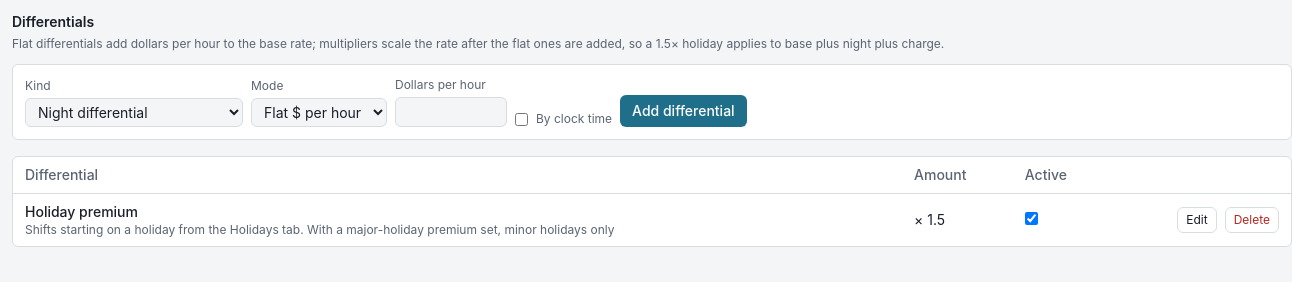
clock-time differentials in Settings › Pay › amounts the cost engine can price › refuses editing a holiday premium down to 0.8
Click the button "Edit" at (1197, 220), box [1177,207,1217,233]
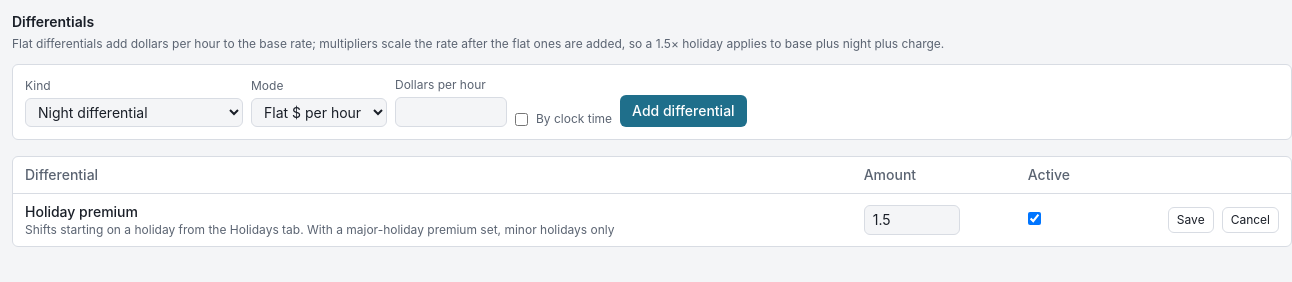
Replace the text in the number field named "Amount" with "0.8" at (912, 220), box [864,205,960,235]
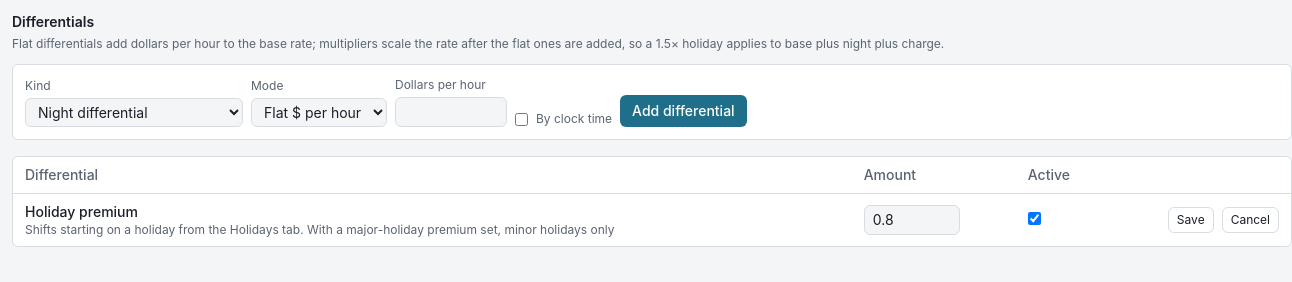
Click the button "Save" at (1191, 220), box [1168,207,1214,233]
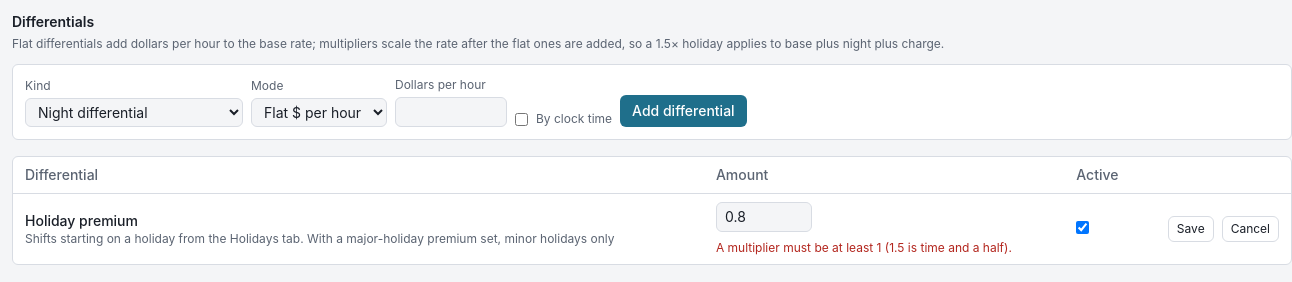
Check: the text "A multiplier must be at least 1 (1.5 is time and a half)." is shown, box [716,240,1052,256]
